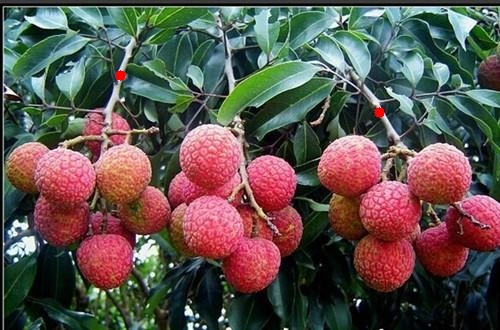litchi: (324, 138, 499, 289), (12, 109, 155, 285), (172, 129, 299, 289)
stem: (343, 61, 412, 156), (99, 28, 140, 134), (211, 13, 244, 137)
